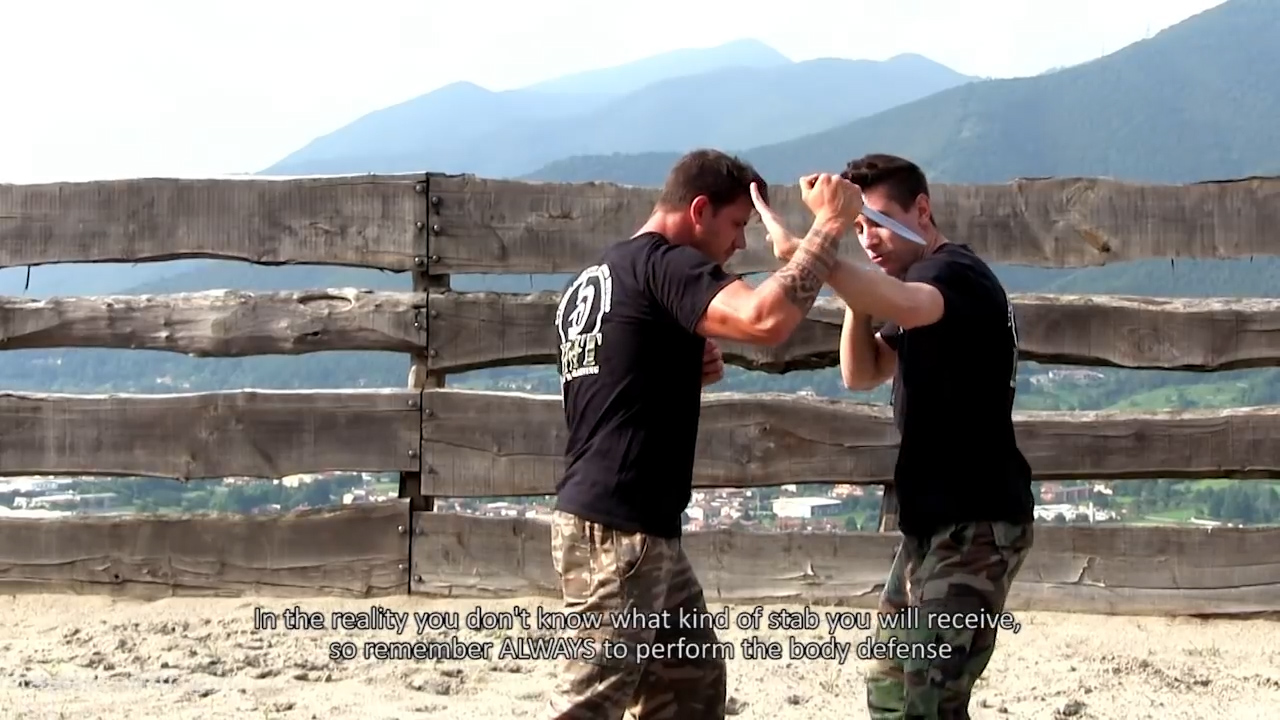knife: (798, 168, 936, 249)
